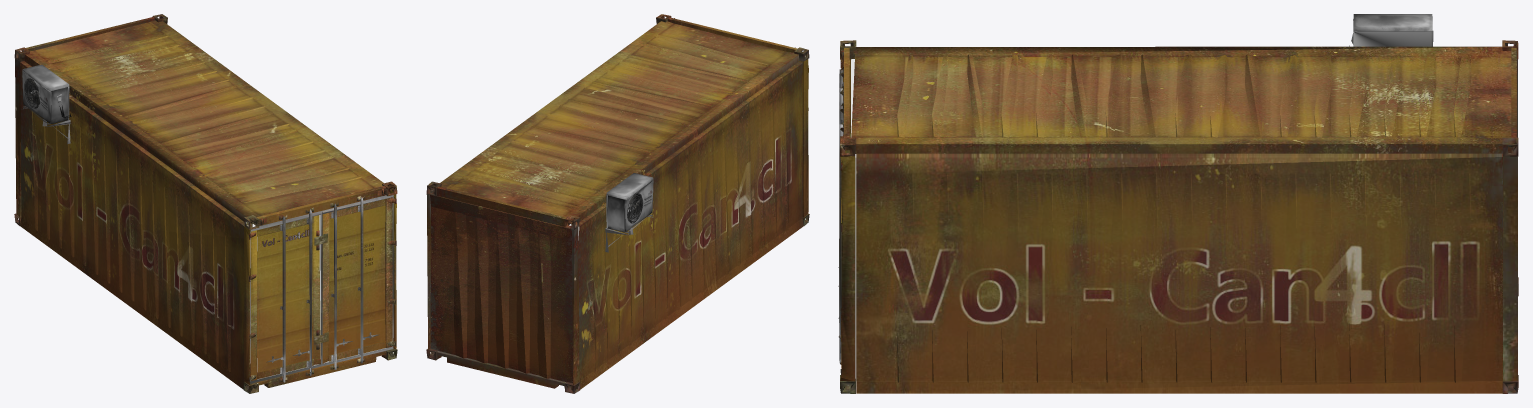
File: Container.obj
3 views of the same model, side by side, from view 1: azimuth 30°, elevation 25°; view 2: azimuth 150°, elevation 25°; view 3: azimuth 270°, elevation 25° (orthographic). The views are drawn at different scales.
Parts seen in each view (by area): view 1: container_Mesh, air_conditioning_Mesh.001; view 2: container_Mesh, air_conditioning_Mesh.001; view 3: container_Mesh, air_conditioning_Mesh.001.
Boxes of the visible parts, x1,y1,x2,y2 form: container_Mesh: [14, 14, 397, 393]; air_conditioning_Mesh.001: [22, 64, 71, 144]; container_Mesh: [426, 14, 809, 393]; air_conditioning_Mesh.001: [605, 173, 653, 252]; container_Mesh: [838, 40, 1518, 393]; air_conditioning_Mesh.001: [1349, 14, 1433, 46].
Bounding box in the file's own units: 2.52 × 2.51 × 5.95.
Materials: 2 (2 with a texture image).
